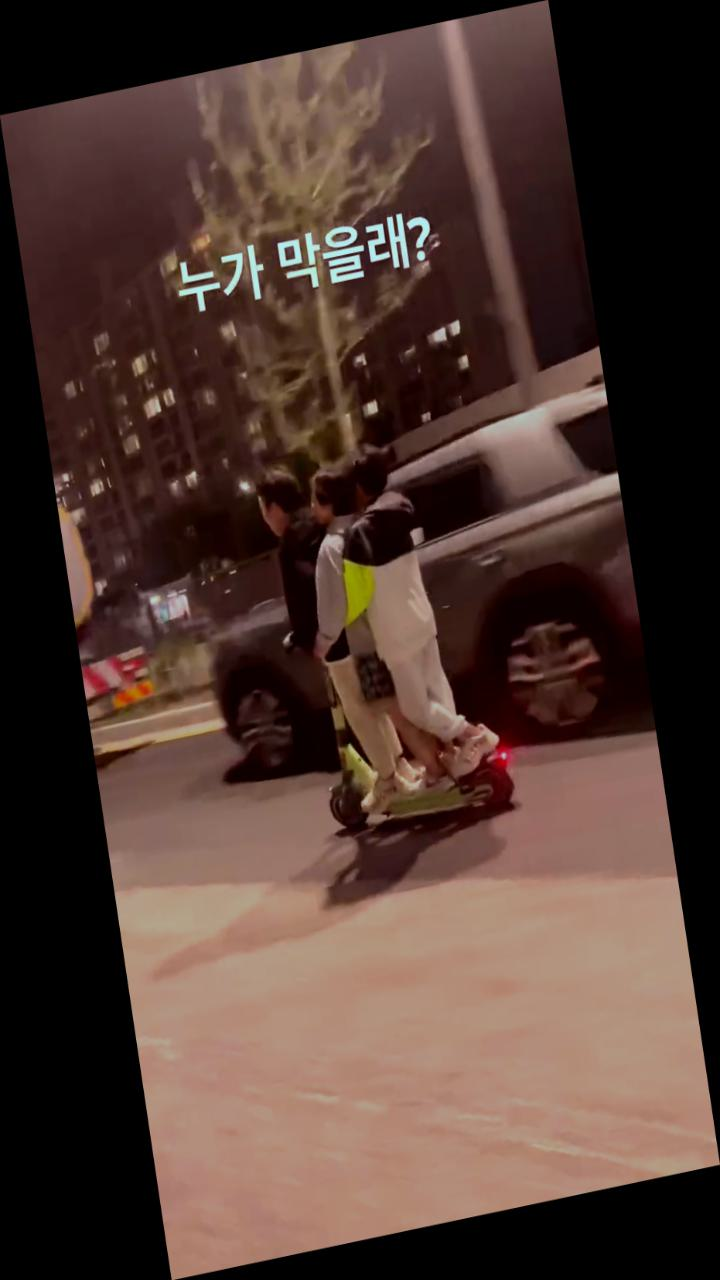multiple: (237, 421, 529, 865)
